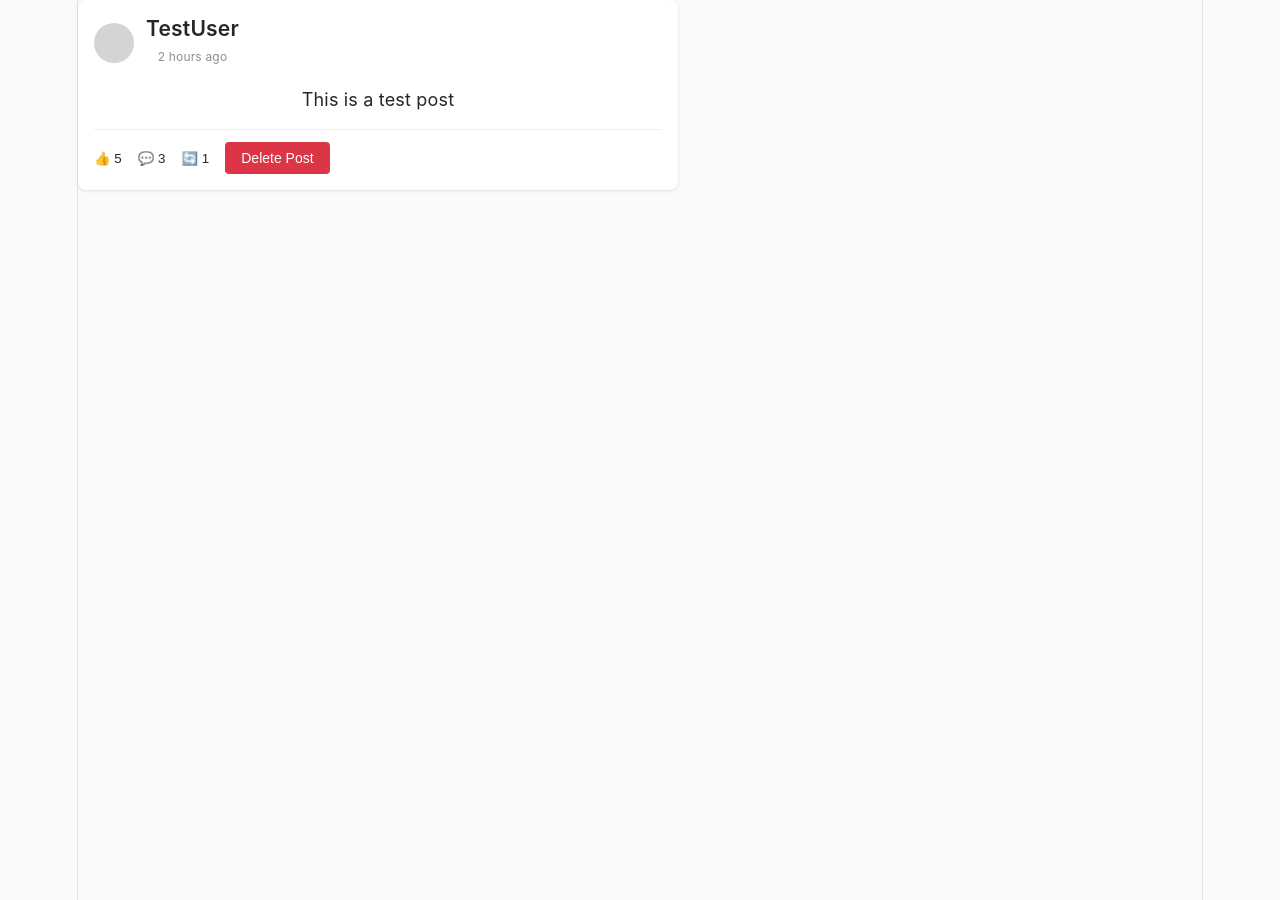
Test: PostCard State Management › increments like count when like button is clicked
# Click the button
Click the button "👍 5".
click(108, 158)  # box [94,142,122,174]
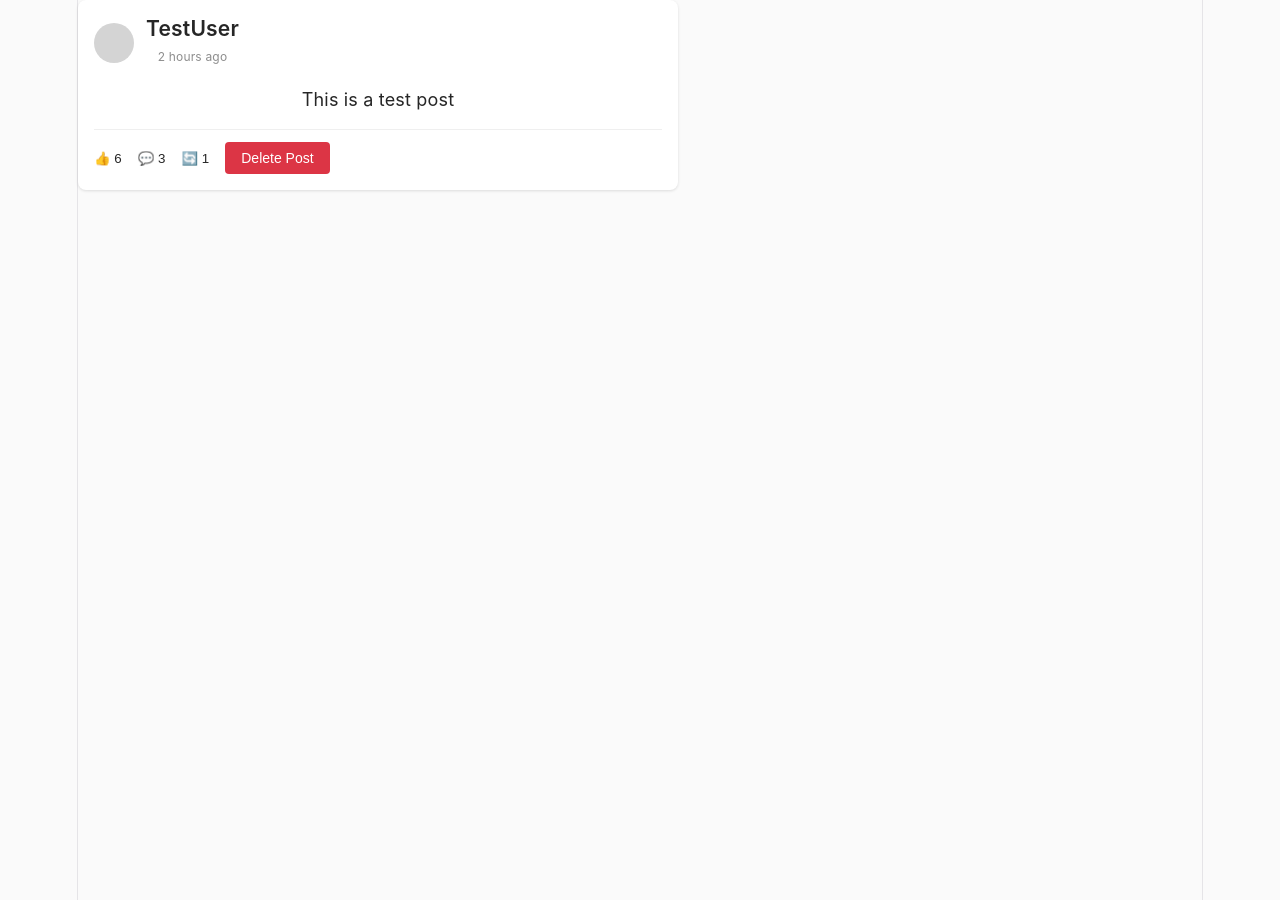
Check: the button "👍 6" is shown, box [94,142,122,174]
Check: the button "👍 5" is gone
